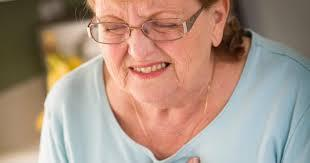pain: (97, 13, 185, 41)
